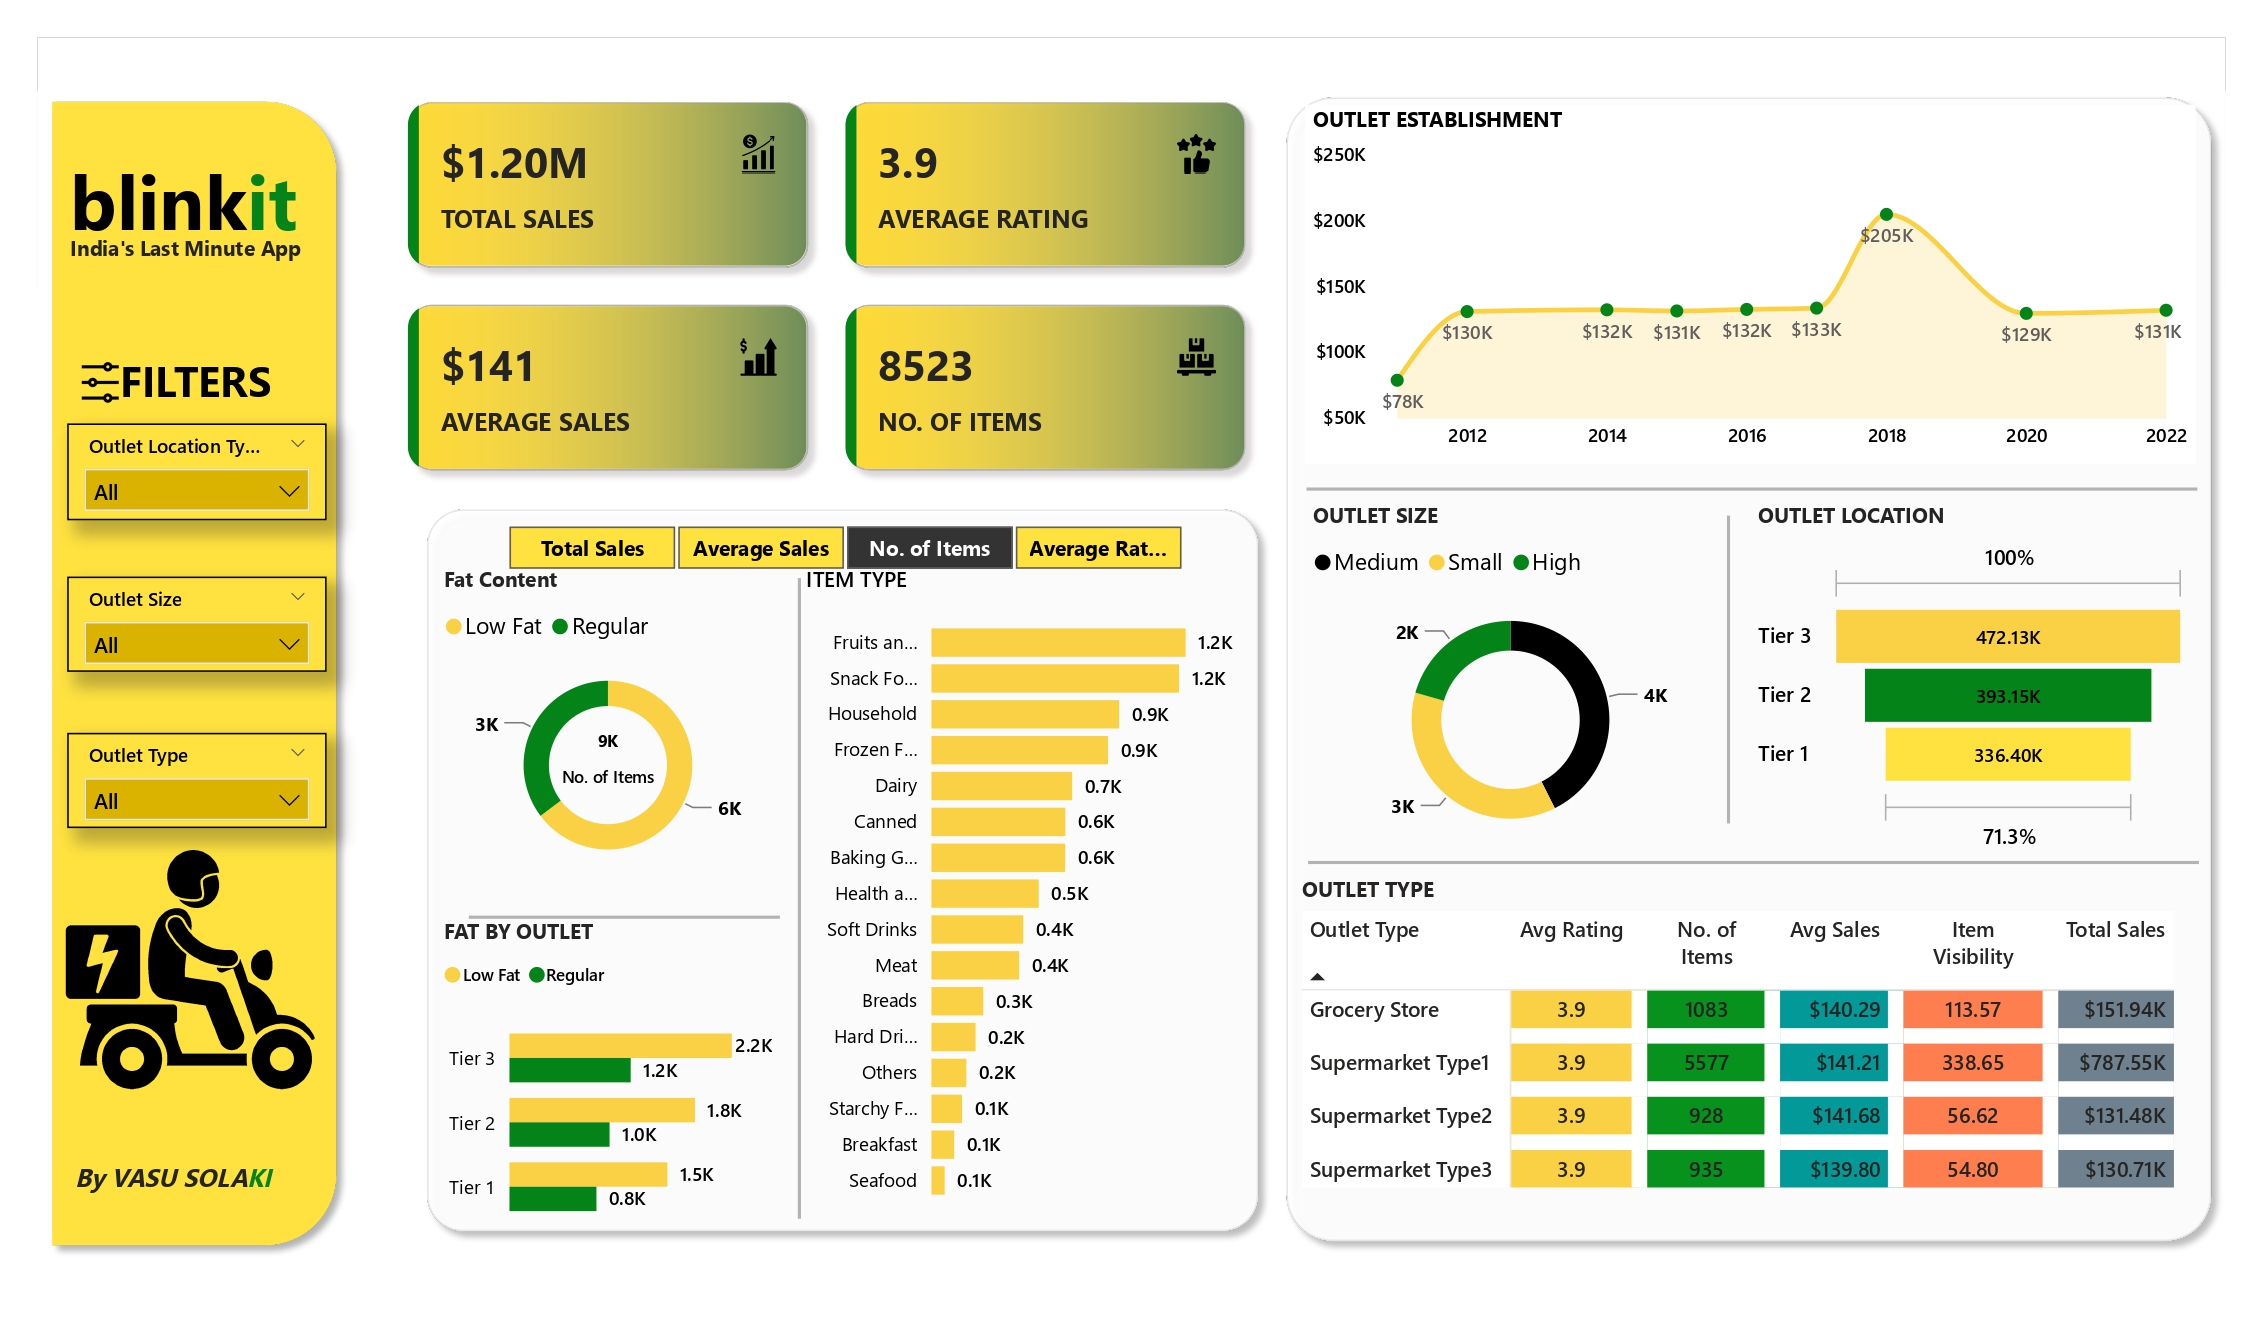

Layout of this report page (visuals, bound fields, positions):
{"tool":"powerbi","page":{"name":"Page 1","canvas":[1400,800],"ordinal":0},"visuals":[{"type":"shape","box":[0,32.3,200,750],"z":0},{"type":"textbox","box":[16,66,166,76],"z":1000},{"type":"textbox","box":[15.7,121.4,165.7,40],"z":2000},{"type":"cardVisual","fields":{"Data":["BlinkIT Grocery Data.Total Sales","BlinkIT Grocery Data.Average Rating","BlinkIT Grocery Data.Average Sales","BlinkIT Grocery Data.No. of Items"]},"box":[220,24.3,570,270],"z":3000},{"type":"shape","box":[240,293.3,550,480],"z":4000},{"type":"donutChart","title":"Fat Content","fields":{"Y":["BlinkIT Grocery Data.No. of Items"],"Category":["BlinkIT Grocery Data.Item Fat Content"]},"box":[255,337.5,220,206.2],"z":5000},{"type":"slicer","fields":{"Values":["Metrics.Metrics"]},"box":[275.7,305.7,480,40],"z":6000},{"type":"cardVisual","fields":{"Data":["BlinkIT Grocery Data.No. of Items"]},"box":[306.2,426.2,117.5,68.8],"z":7000},{"type":"clusteredBarChart","title":"FAT BY OUTLET","fields":{"Y":["BlinkIT Grocery Data.No. of Items"],"Category":["BlinkIT Grocery Data.Outlet Location Type"],"Series":["BlinkIT Grocery Data.Item Fat Content"]},"box":[255,562.5,220,211.2],"z":8000},{"type":"shape","box":[276.2,527.5,198.8,70],"z":9000},{"type":"shape","box":[388.6,345.7,197.1,410],"z":10000},{"type":"barChart","title":"ITEM TYPE","fields":{"Y":["BlinkIT Grocery Data.No. of Items"],"Category":["BlinkIT Grocery Data.Item Type"]},"box":[486.7,338.3,288.3,416.7],"z":11000},{"type":"shape","box":[790,28.6,610,750],"z":12000},{"type":"stackedAreaChart","title":"OUTLET ESTABLISHMENT","fields":{"Category":["BlinkIT Grocery Data.Outlet Establishment Year"],"Y":["BlinkIT Grocery Data.Total Sales"]},"box":[811.1,43.3,570,230],"z":13000},{"type":"shape","box":[812,272,570,34],"z":14000},{"type":"donutChart","title":"OUTLET SIZE","fields":{"Y":["BlinkIT Grocery Data.No. of Items"],"Category":["BlinkIT Grocery Data.Outlet Size"]},"box":[811.4,297.1,262.9,230],"z":15000},{"type":"shape","box":[1074.3,305.7,15.7,197.1],"z":16000},{"type":"funnel","title":"OUTLET LOCATION","fields":{"Y":["Sum(BlinkIT Grocery Data.Sales)"],"Category":["BlinkIT Grocery Data.Outlet Location Type"]},"box":[1095.7,297.1,285.7,230],"z":17000},{"type":"pivotTable","title":"OUTLET TYPE","fields":{"Values":["BlinkIT Grocery Data.Average Rating","BlinkIT Grocery Data.No. of Items","BlinkIT Grocery Data.Average Sales","Sum(BlinkIT Grocery Data.Item Visibility)","BlinkIT Grocery Data.Total Sales"],"Rows":["BlinkIT Grocery Data.Outlet Type"]},"box":[804.3,535.7,571.4,225.7],"z":18000},{"type":"shape","box":[812.9,520,570,15.7],"z":19000},{"type":"slicer","fields":{"Values":["BlinkIT Grocery Data.Outlet Location Type"]},"box":[18.6,247.4,166.2,61.2],"z":20000},{"type":"slicer","fields":{"Values":["BlinkIT Grocery Data.Outlet Size"]},"box":[18.6,344.9,166.2,61.2],"z":21000},{"type":"slicer","fields":{"Values":["BlinkIT Grocery Data.Outlet Type"]},"box":[18.6,444.9,166.2,61.2],"z":22000},{"type":"textbox","box":[47.7,196.1,126.7,51.7],"z":23000},{"type":"image","box":[19,201,42,42],"z":24000},{"type":"image","box":[9,506.1,176.7,181.7],"z":25000},{"type":"textbox","box":[19,714,163,41],"z":25001}]}

Visuals, with their boxes in screenshot pixels (x1, y1, x2, y2):
shape: 38,88,350,1260
textbox: 63,141,322,259
textbox: 62,227,321,290
cardVisual - BlinkIT Grocery Data.Total Sales x BlinkIT Grocery Data.Average Rating: 381,75,1272,497
shape: 413,496,1272,1246
"Fat Content" donutChart: 436,565,780,887
slicer - Metrics.Metrics: 468,515,1219,578
cardVisual - BlinkIT Grocery Data.No. of Items: 516,703,700,811
"FAT BY OUTLET" clusteredBarChart: 436,916,780,1246
shape: 469,862,780,971
shape: 645,578,953,1218
"ITEM TYPE" barChart: 798,566,1249,1217
shape: 1272,82,2225,1254
"OUTLET ESTABLISHMENT" stackedAreaChart: 1305,105,2196,465
shape: 1307,462,2197,516
"OUTLET SIZE" donutChart: 1306,502,1716,861
shape: 1716,515,1741,823
"OUTLET LOCATION" funnel: 1750,502,2196,861
"OUTLET TYPE" pivotTable: 1295,875,2188,1227
shape: 1308,850,2199,875
slicer - BlinkIT Grocery Data.Outlet Location Type: 67,424,326,520
slicer - BlinkIT Grocery Data.Outlet Size: 67,576,326,672
slicer - BlinkIT Grocery Data.Outlet Type: 67,733,326,828
textbox: 112,344,310,425
image: 67,352,133,417
image: 52,828,328,1112
textbox: 67,1153,322,1217
